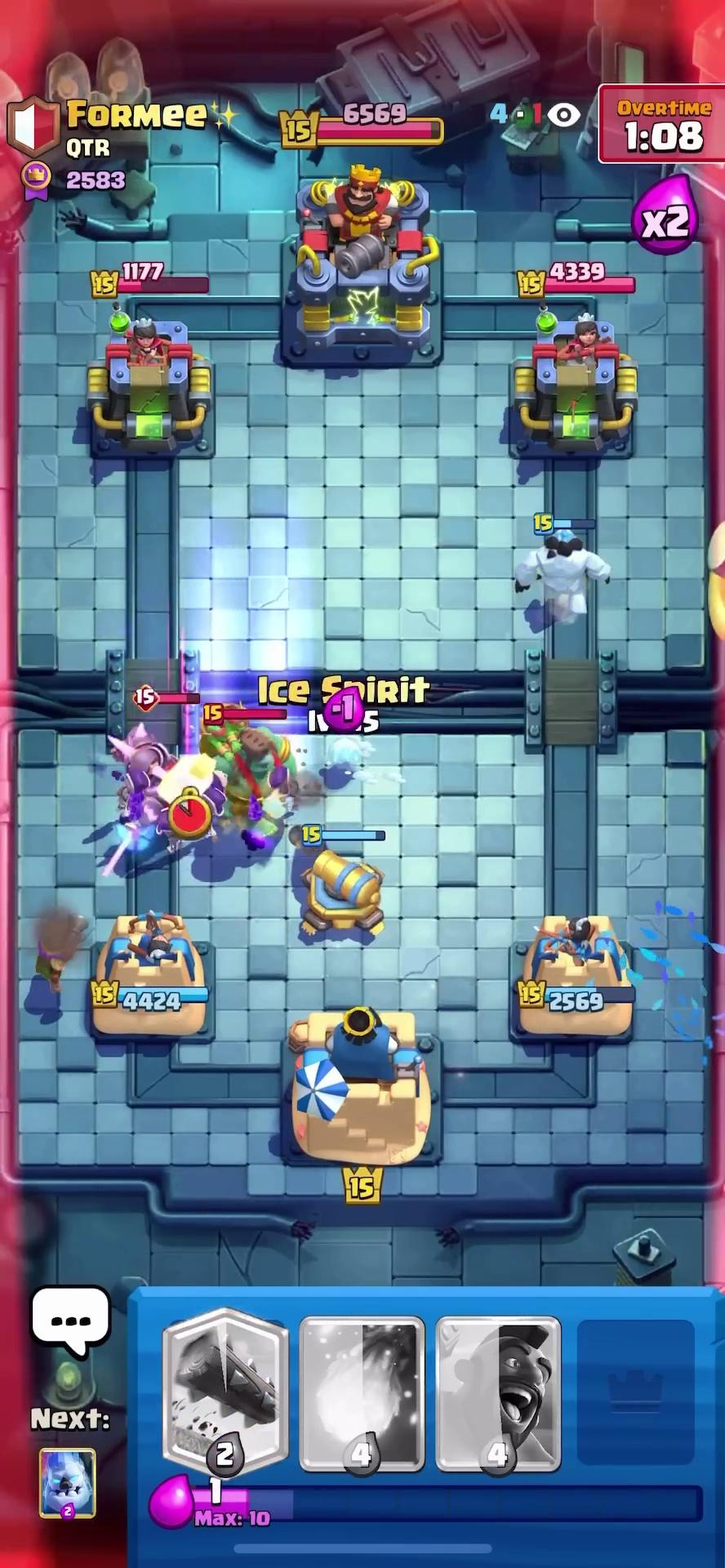cannon: (286, 827, 402, 958)
evo_skeletons: (106, 784, 239, 851)
ice_golem: (514, 519, 616, 617)
musketeer: (14, 880, 108, 994)
